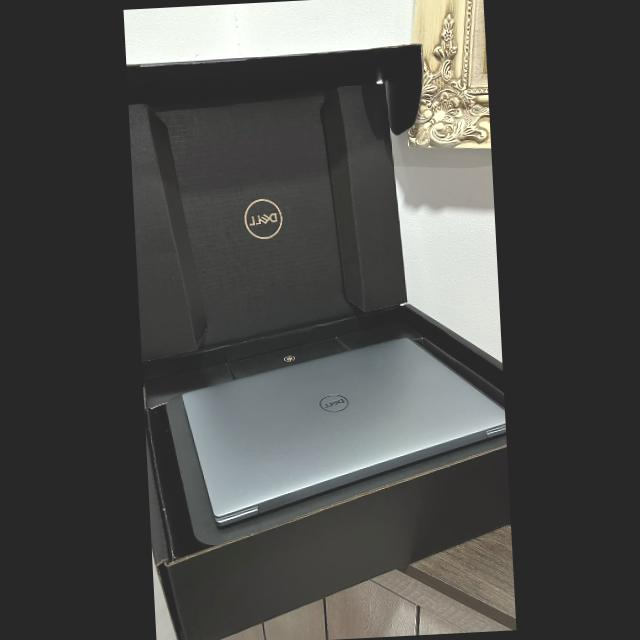laptop: (168, 328, 510, 530)
